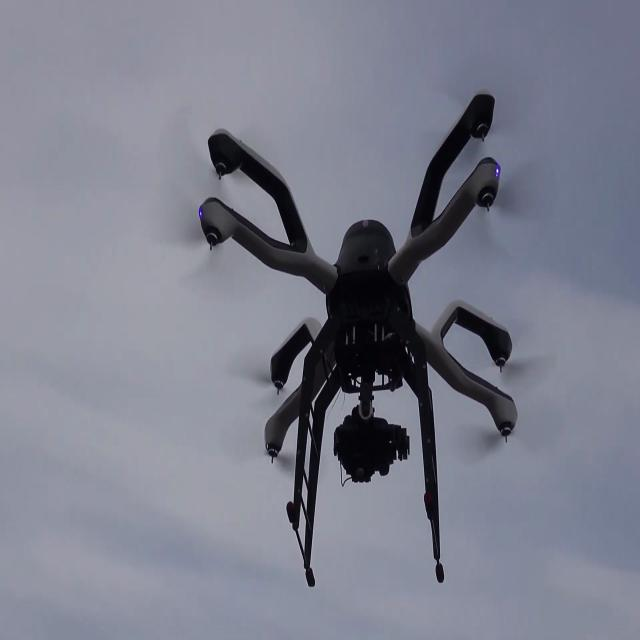drone: (184, 93, 537, 589)
